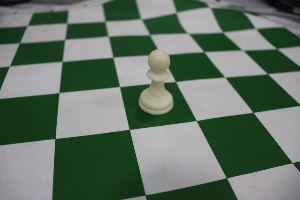white_pawn: (130, 41, 179, 125)
